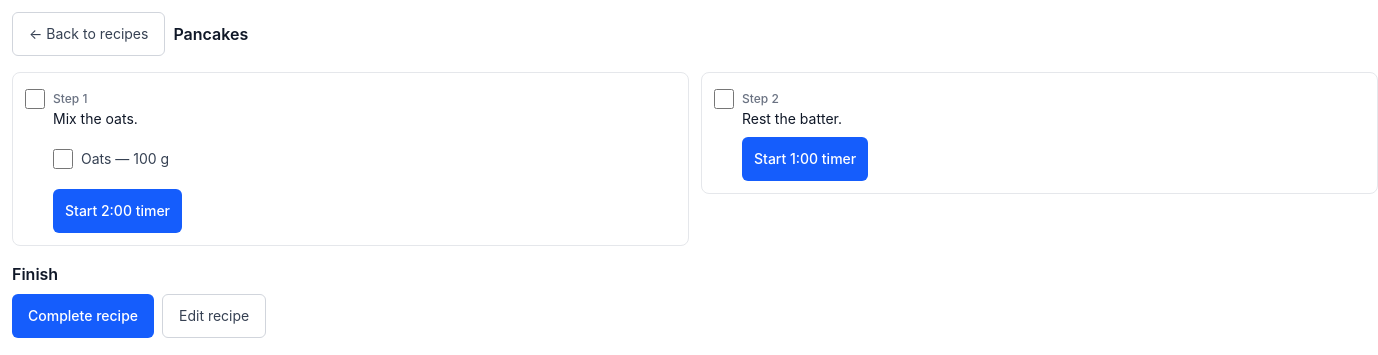
RecipeCook › two timers count down independently from server deadlines
Later steps or results of the test are not shown.
Click the button with aria-label "Start step 1 timer": [118, 211] box [53,189,182,233]
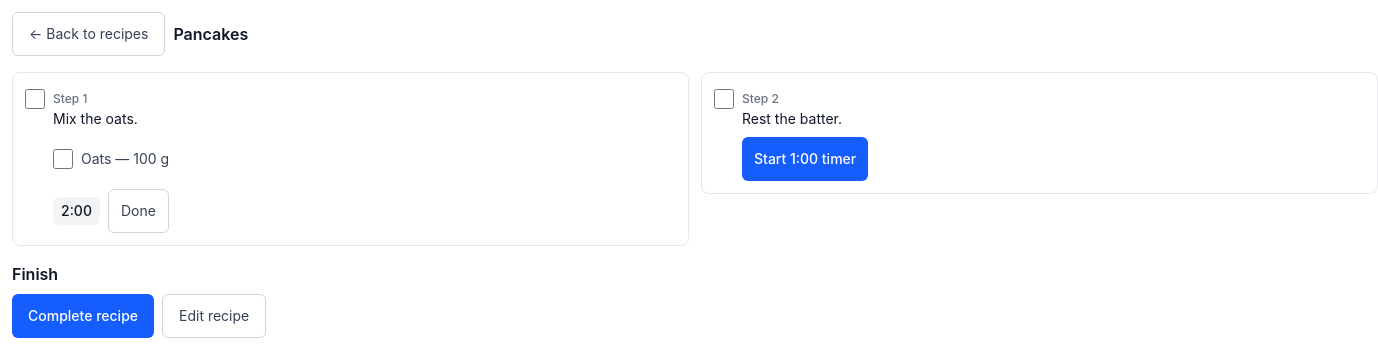
Click the button with aria-label "Start step 2 timer": [805, 159] box [742,137,868,181]
Wait 30000 ms
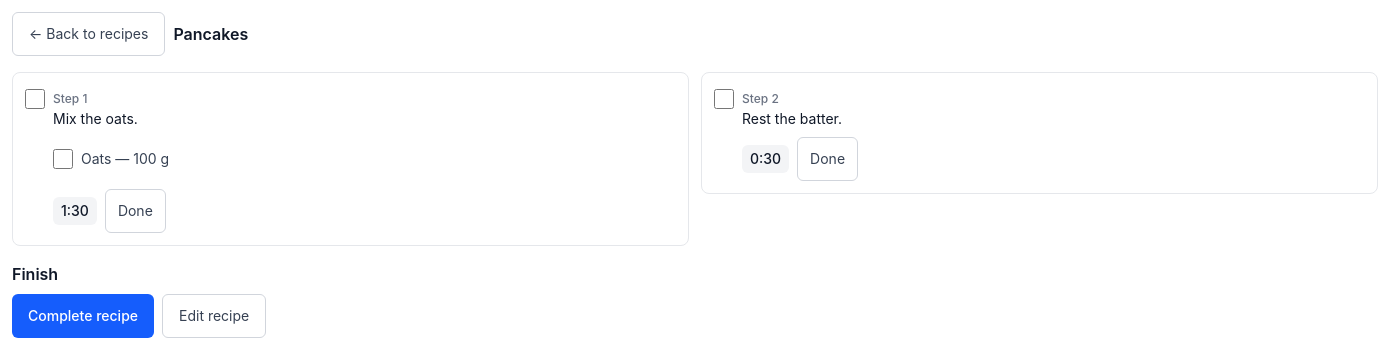
Expected: the text with test id "cook-timer-1" reads "1:30", [61,202,89,219]
Expected: the text with test id "cook-timer-2" reads "0:30", [750,150,781,167]
